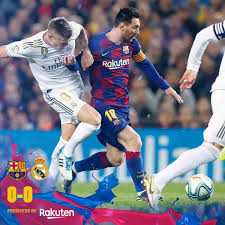barcelona: (70, 12, 168, 209)
realmadrid: (6, 19, 97, 188), (151, 13, 225, 204)
